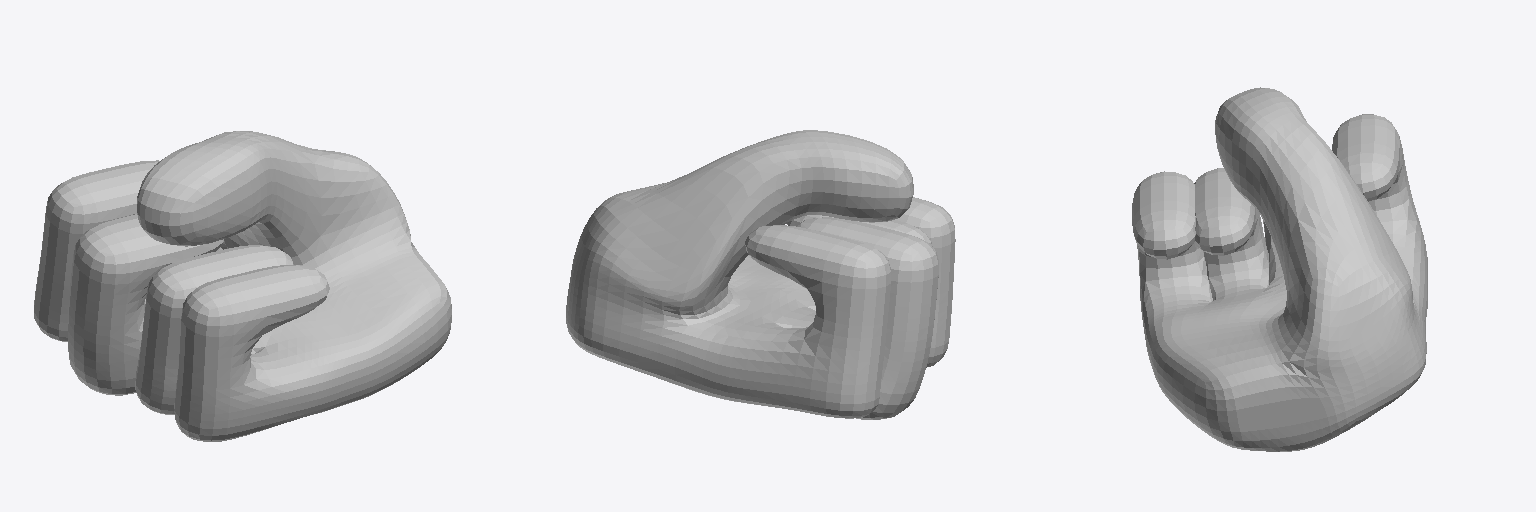
The picture shows the model from 3 angles: view 1: azimuth 30°, elevation 25°; view 2: azimuth 150°, elevation 25°; view 3: azimuth 270°, elevation 25°; orthographic projection.
Visible parts, largest first — view 1: S_HAND; view 2: S_HAND; view 3: S_HAND.
Part boxes in pixels (bbox=[...]): S_HAND: bbox=[34, 131, 451, 441]; S_HAND: bbox=[566, 130, 955, 419]; S_HAND: bbox=[1132, 87, 1427, 451].
Size of the model in its own units: 144 by 101 by 108.